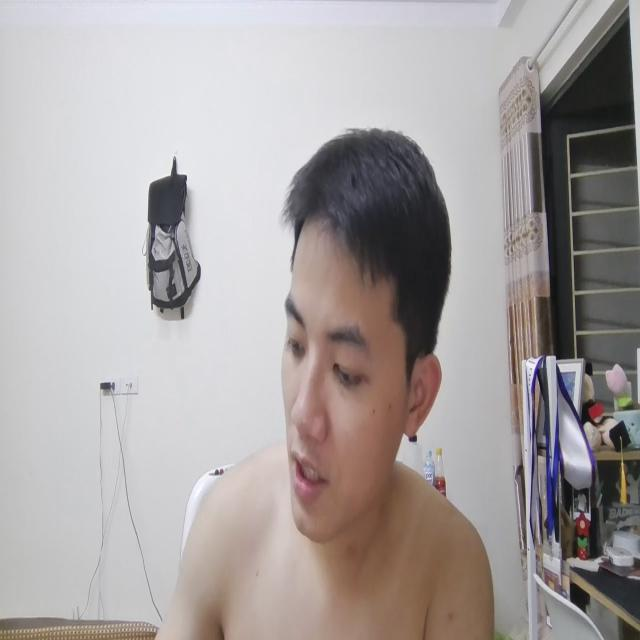student: (165, 121, 493, 640)
